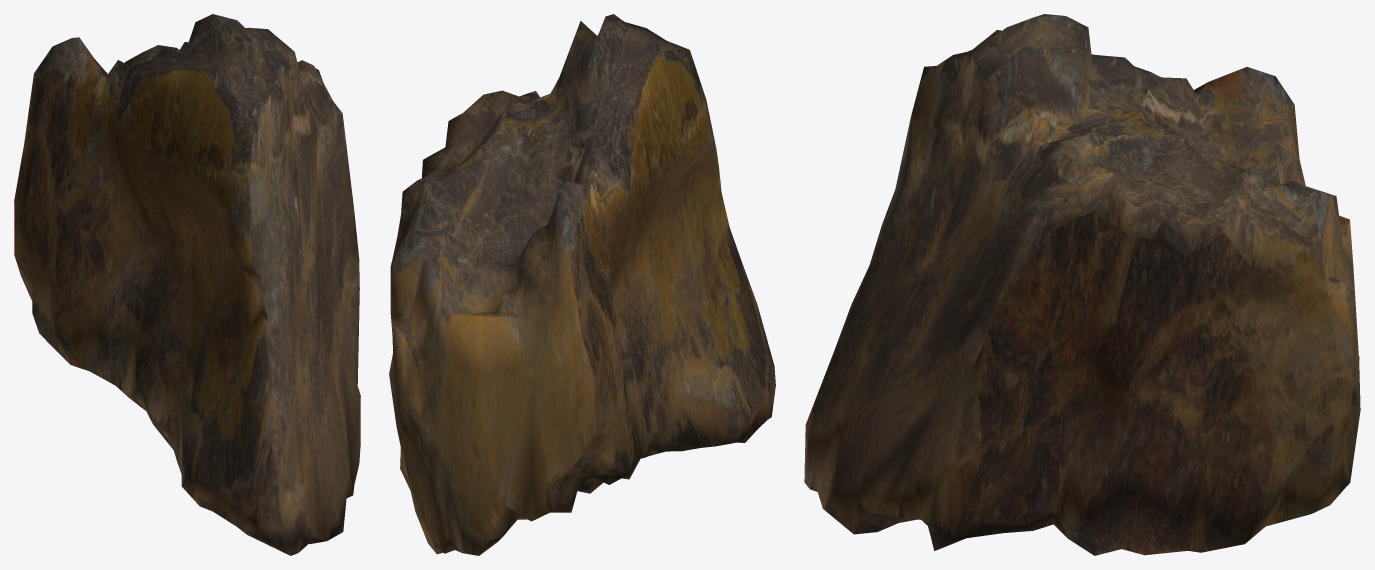
The model's file is rock_09_hi.glb.
3 views of the same model, side by side, from view 1: azimuth 30°, elevation 25°; view 2: azimuth 150°, elevation 25°; view 3: azimuth 270°, elevation 25° (orthographic). The views are drawn at different scales.
Parts seen in each view (by area): view 1: rock_09_hi; view 2: rock_09_hi; view 3: rock_09_hi.
Part boxes in pixels (x1,y1,x2,y2): rock_09_hi: (14,14,360,555); rock_09_hi: (389,14,775,555); rock_09_hi: (804,14,1360,555).
Bounding box in the file's own units: 0.5112 × 0.9945 × 0.9958.
Materials: 1 (1 with a texture image).
